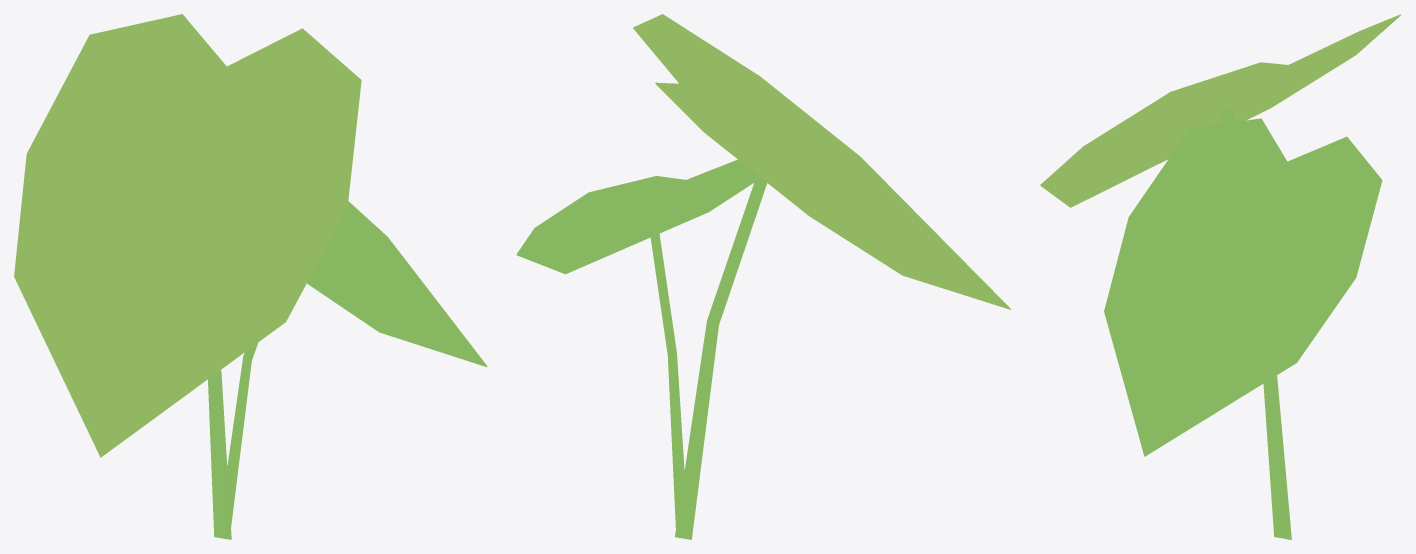
The model's file is Plant_d_TwoS_04.fbx.
3 renders of one model, left to right at view 1: azimuth 30°, elevation 25°; view 2: azimuth 150°, elevation 25°; view 3: azimuth 270°, elevation 25°, orthographic. The views are drawn at different scales.
Parts seen in each view (by area): view 1: Plant_d_TwoS_04; view 2: Plant_d_TwoS_04; view 3: Plant_d_TwoS_04.
Part boxes in pixels (<box>): Plant_d_TwoS_04: <box>14,14,487,539</box>; Plant_d_TwoS_04: <box>516,14,1010,539</box>; Plant_d_TwoS_04: <box>1040,14,1400,539</box>.
Bounding box in the file's own units: 0.6038 × 0.6813 × 0.4409.
